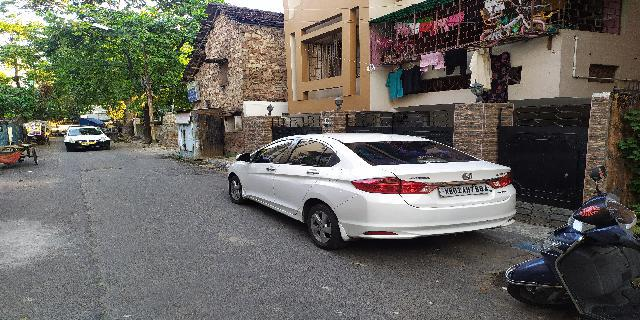Car: (223, 130, 518, 250), (57, 123, 114, 151)
Motorbike: (502, 195, 640, 320)
